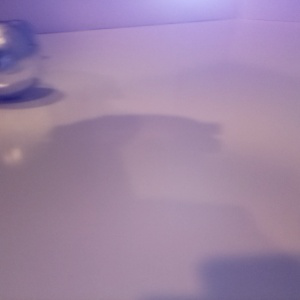alive_ball: (1, 21, 41, 97)
